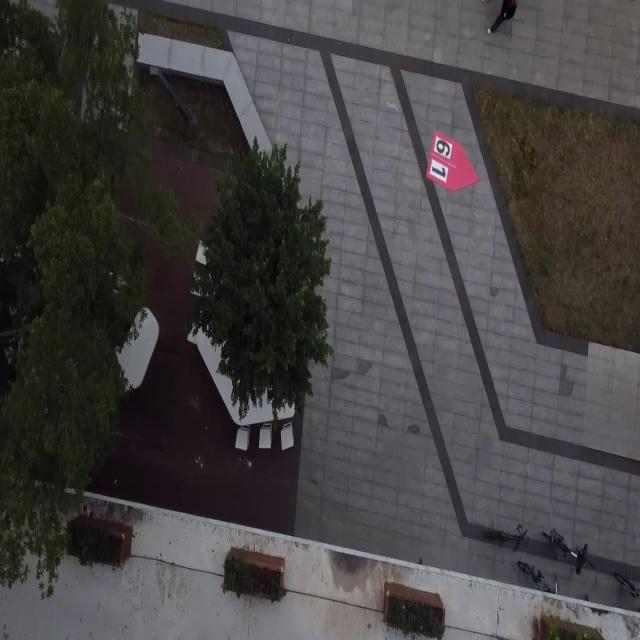-sign-: (425, 129, 480, 193)
